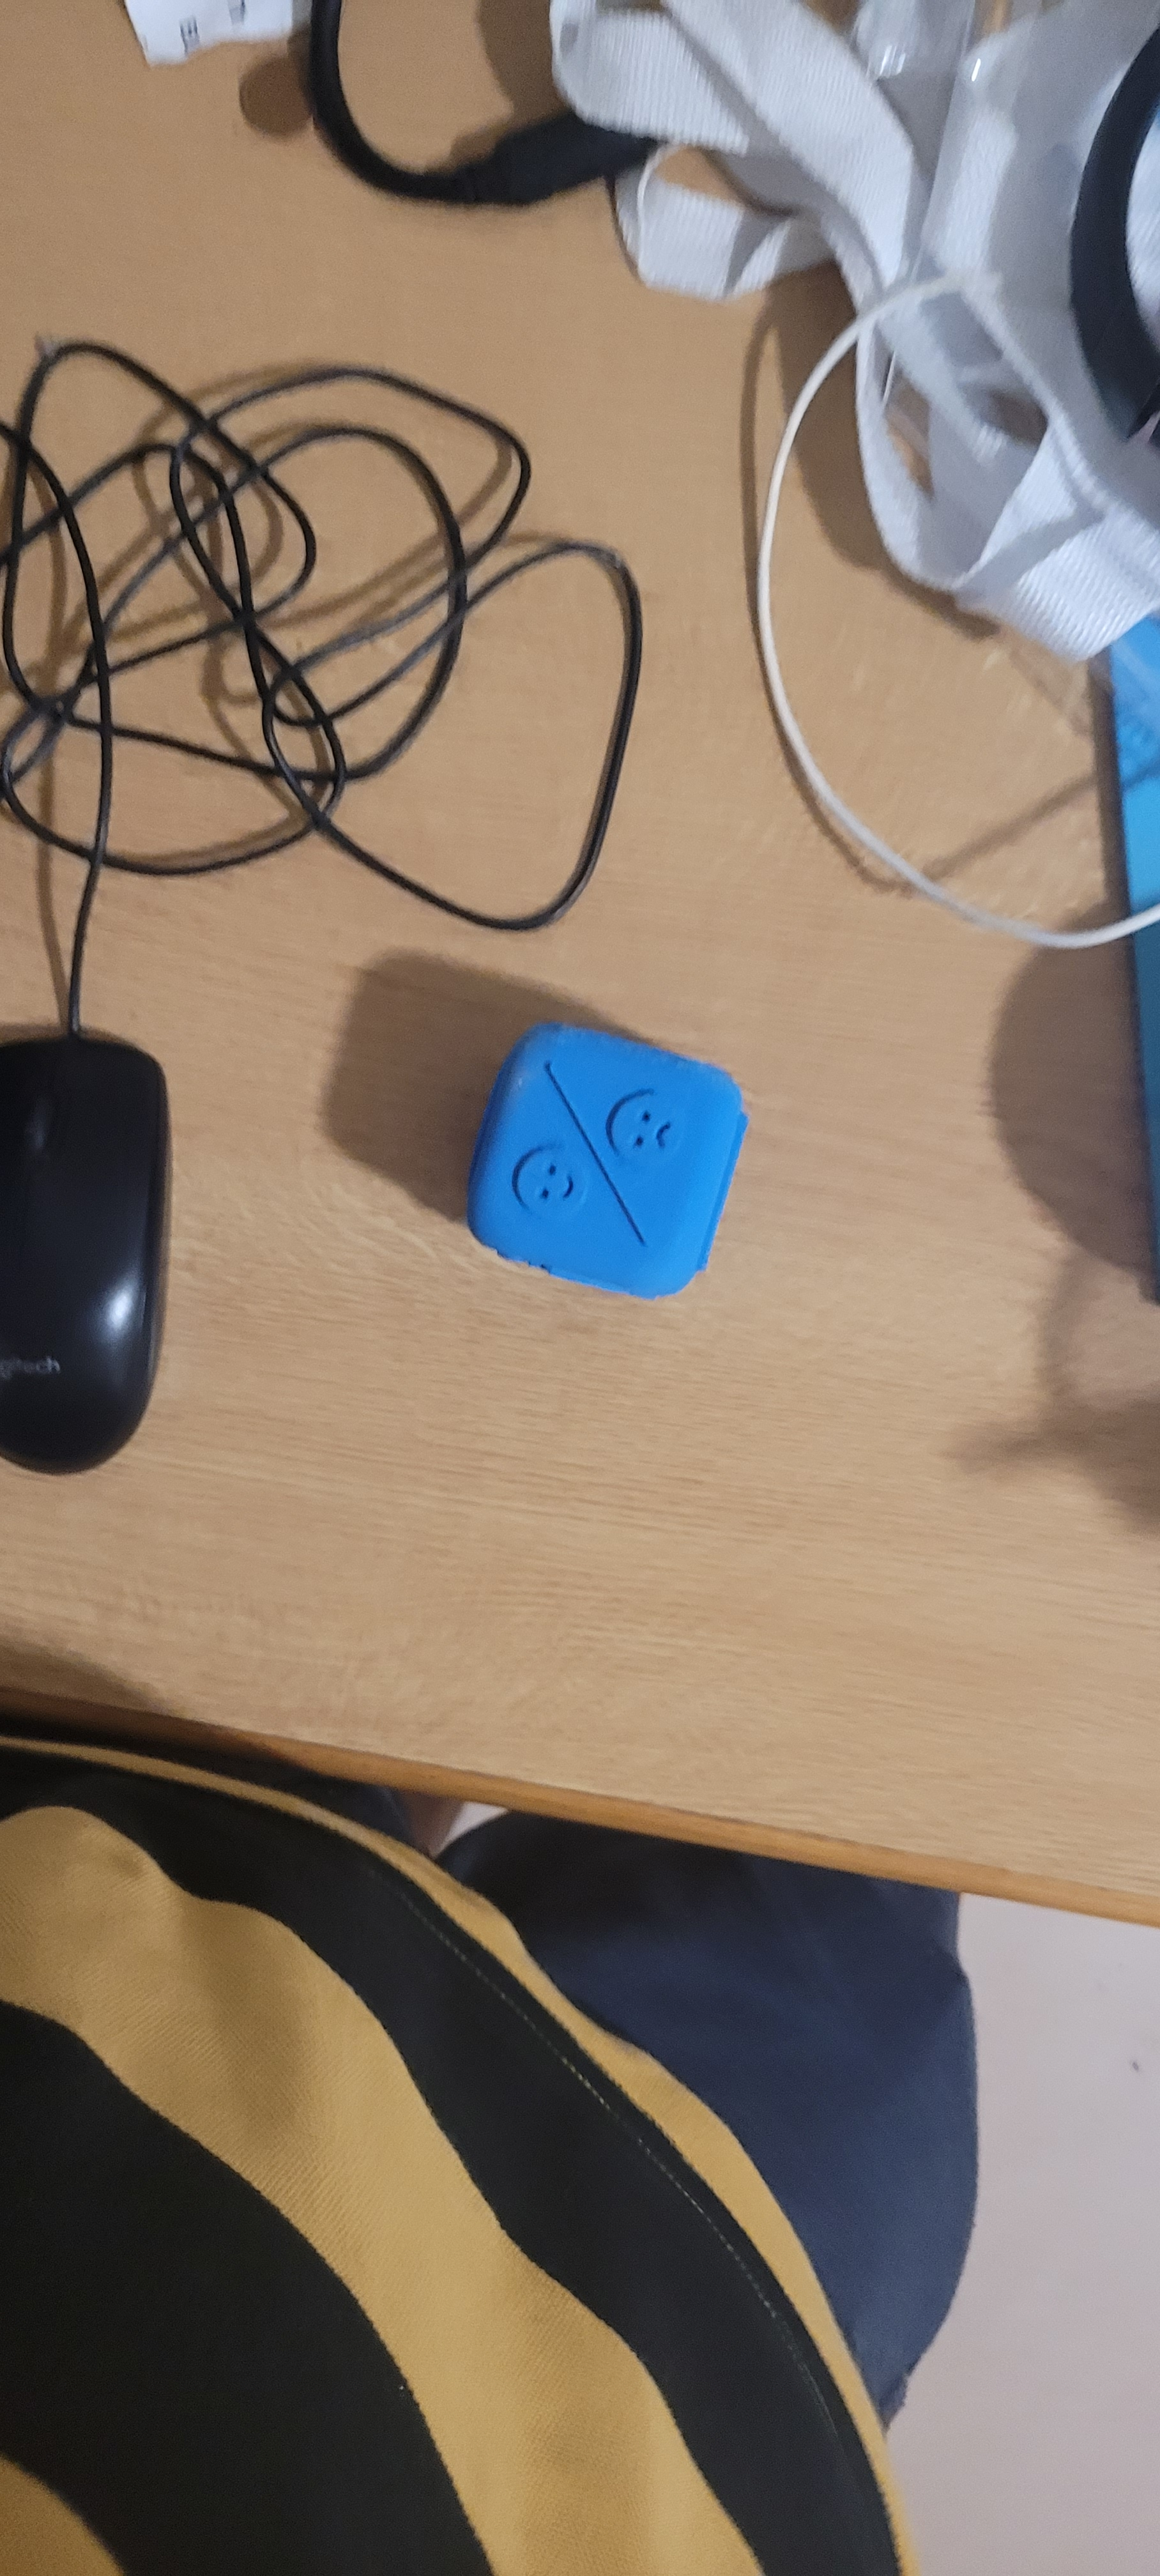Like/Dislike: (490, 1024, 725, 1245)
